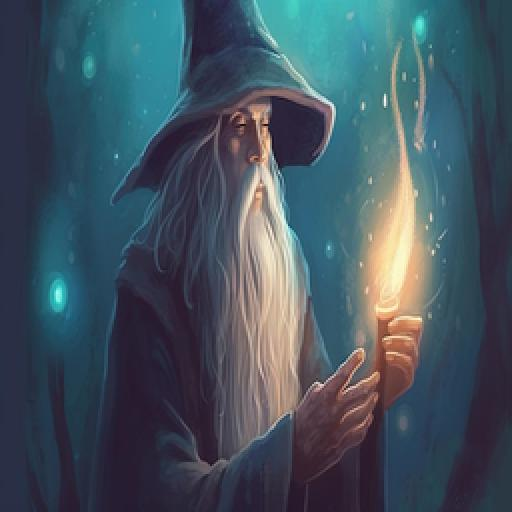wizards: (100, 0, 426, 512)
